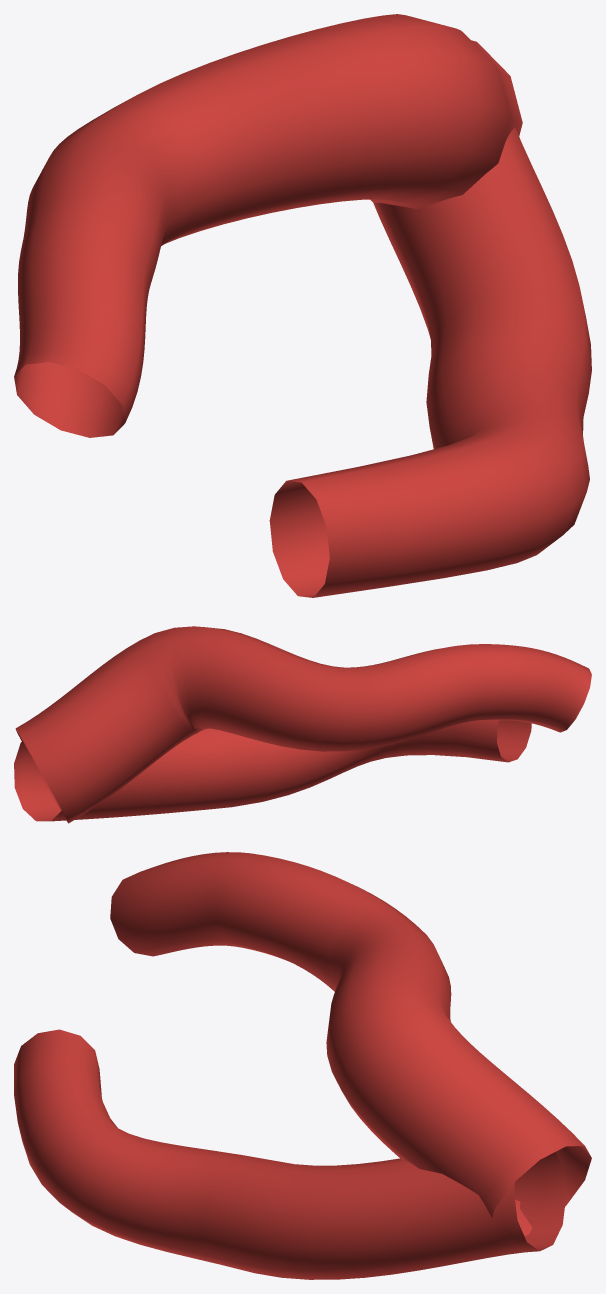
3 views of the same model, one above another, from view 1: azimuth 30°, elevation 25°; view 2: azimuth 150°, elevation 25°; view 3: azimuth 270°, elevation 25° (orthographic). The views are drawn at different scales.
Parts seen in each view (by area): view 1: 右侧大脑中动脉M2段岛叶支; view 2: 右侧大脑中动脉M2段岛叶支; view 3: 右侧大脑中动脉M2段岛叶支.
Boxes of the visible parts, <box> form: 右侧大脑中动脉M2段岛叶支: <box>14,14,591,597</box>; 右侧大脑中动脉M2段岛叶支: <box>14,626,591,823</box>; 右侧大脑中动脉M2段岛叶支: <box>14,852,591,1279</box>.
Bounding box in the file's own units: 0.0187 × 0.00917 × 0.0179.
